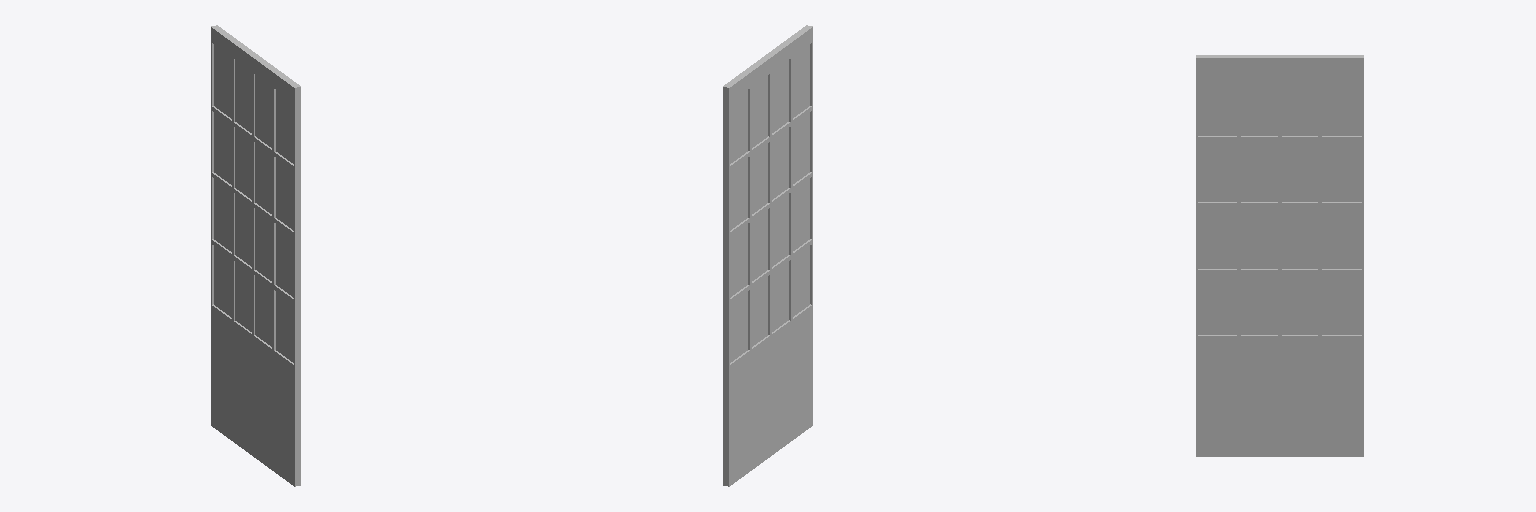
Rendered from WoodDoorText2.obj.
3 views of the same model, side by side, from view 1: azimuth 30°, elevation 25°; view 2: azimuth 150°, elevation 25°; view 3: azimuth 270°, elevation 25° (orthographic).
Parts seen in each view (by area): view 1: polySurface217 polySurface67; view 2: polySurface217 polySurface67; view 3: polySurface217 polySurface67.
Boxes of the visible parts, <box> form: polySurface217 polySurface67: <box>211,25,300,486</box>; polySurface217 polySurface67: <box>723,25,812,486</box>; polySurface217 polySurface67: <box>1196,55,1363,456</box>.
Bounding box in the file's own units: 0.2087 × 11.99 × 4.58.